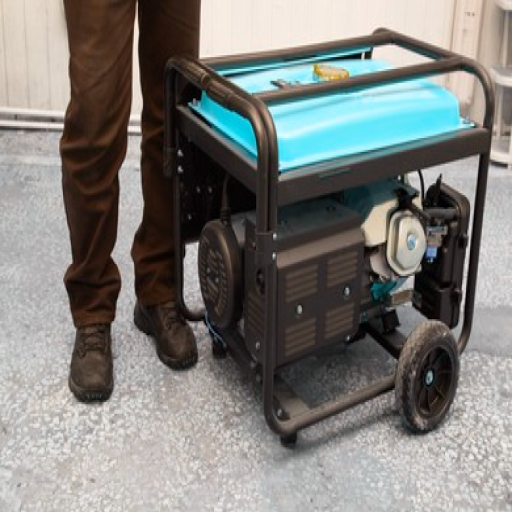portable_generator: (163, 28, 497, 440)
